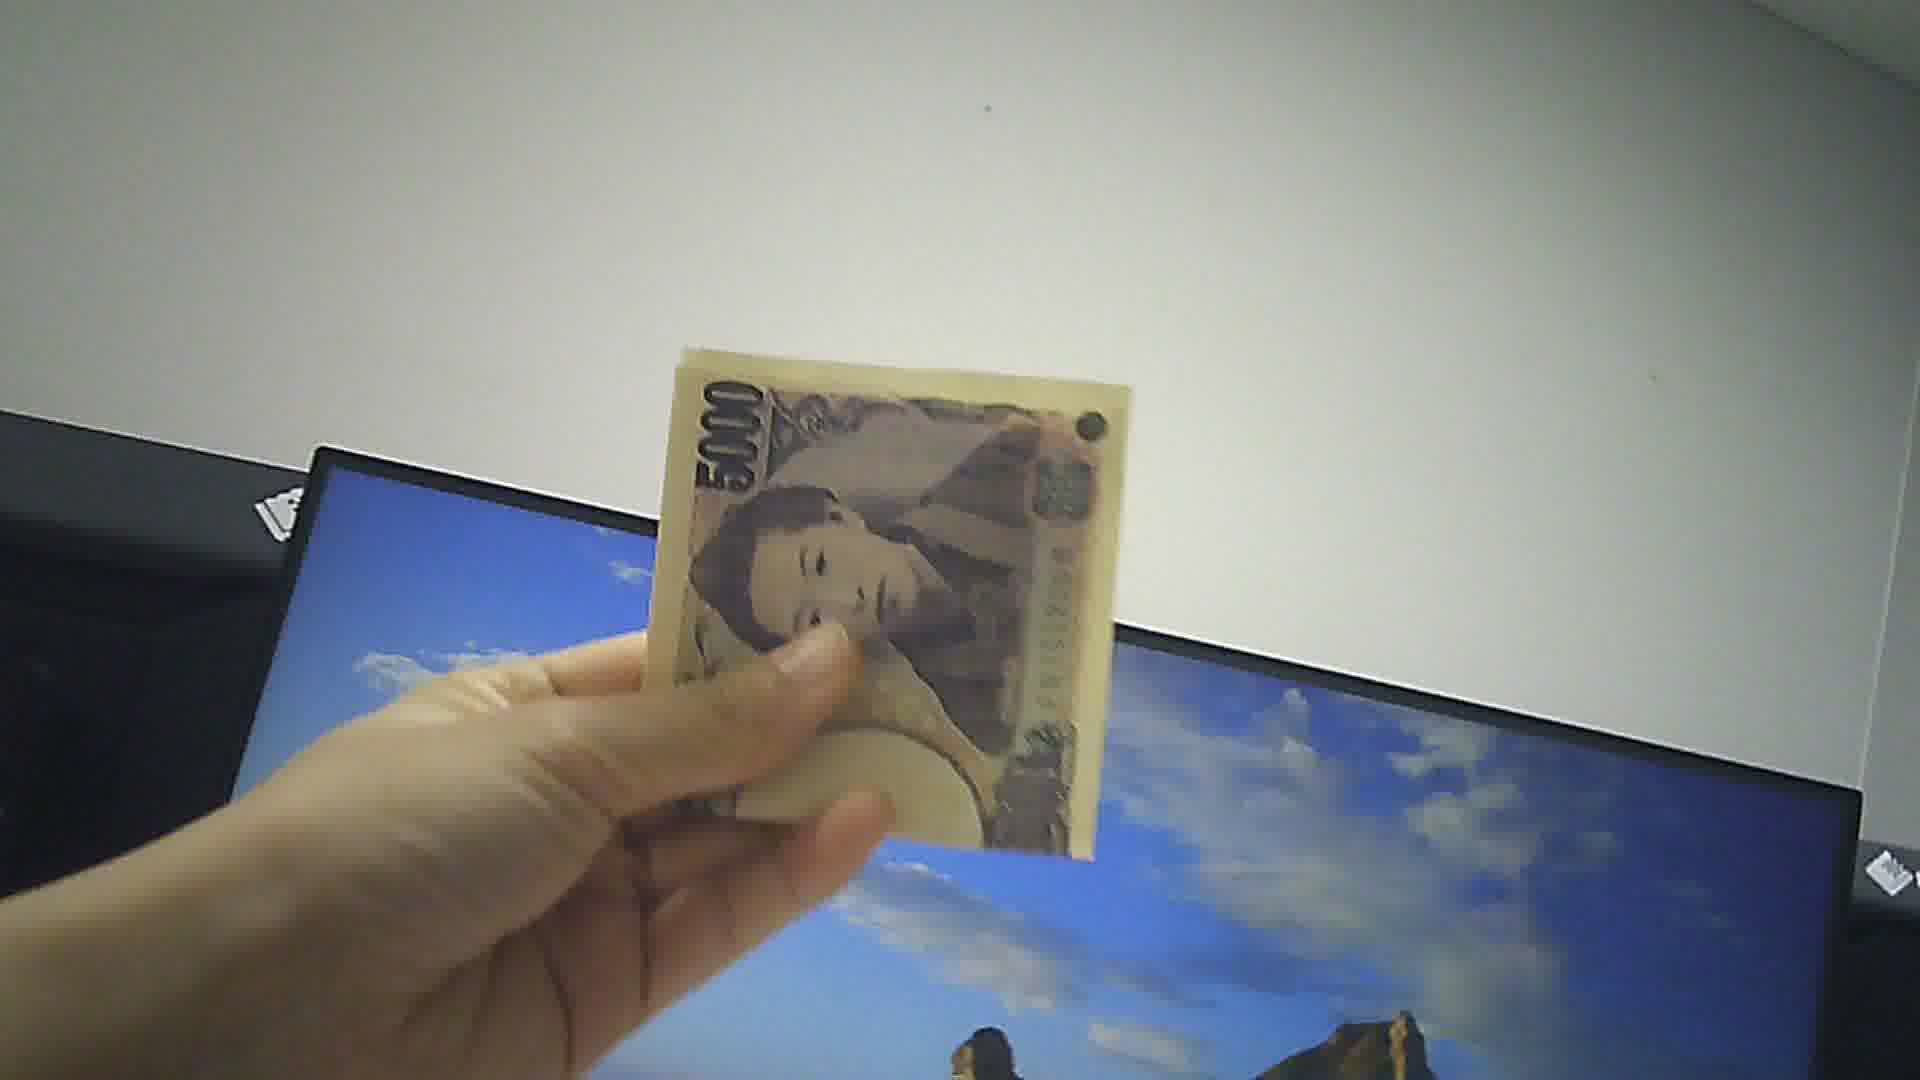5,000 Yen: (640, 339, 1134, 880)
